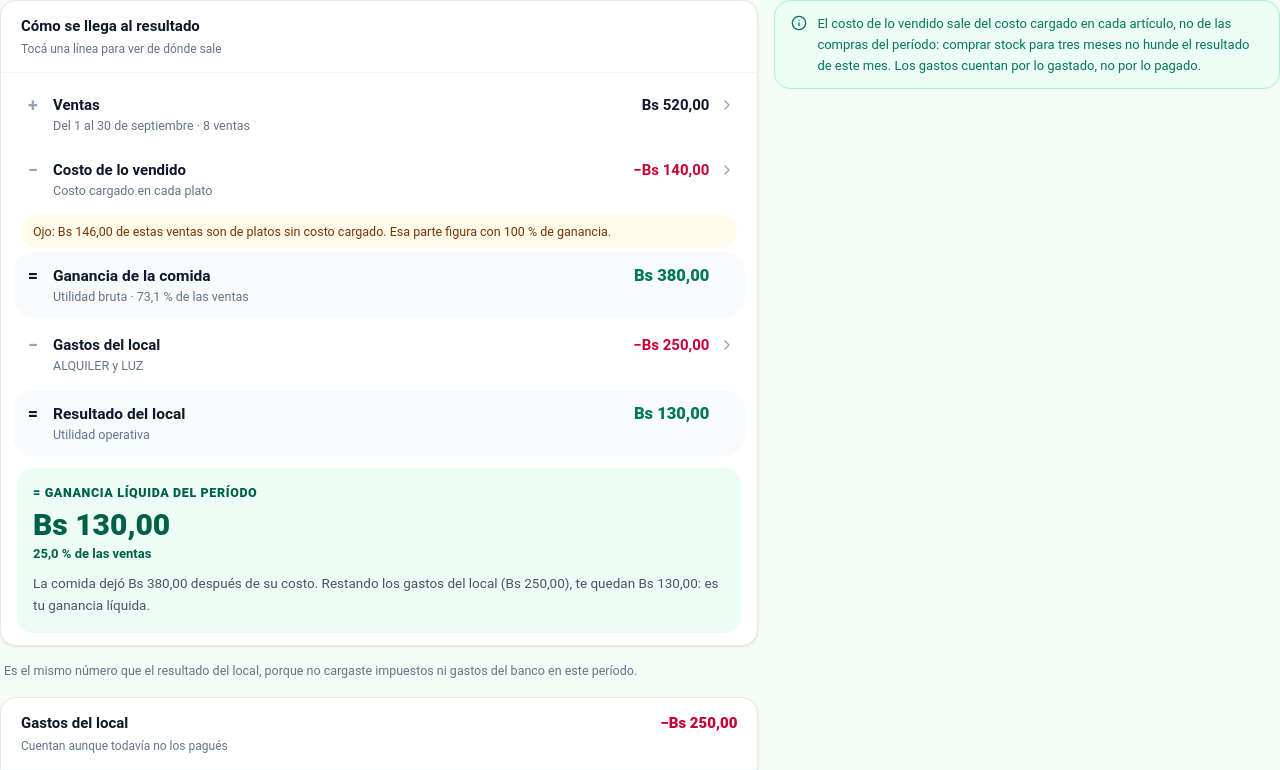
restaurante: platos sin costo e insumos (28-oct) › con un backend anterior, sin la lista, el aviso queda con el texto de siempre
Expected: the text "Sin costo cargado:" is not shown
Click the text "Costo de lo vendido". click: (120,170)
box: [53,161,186,179]
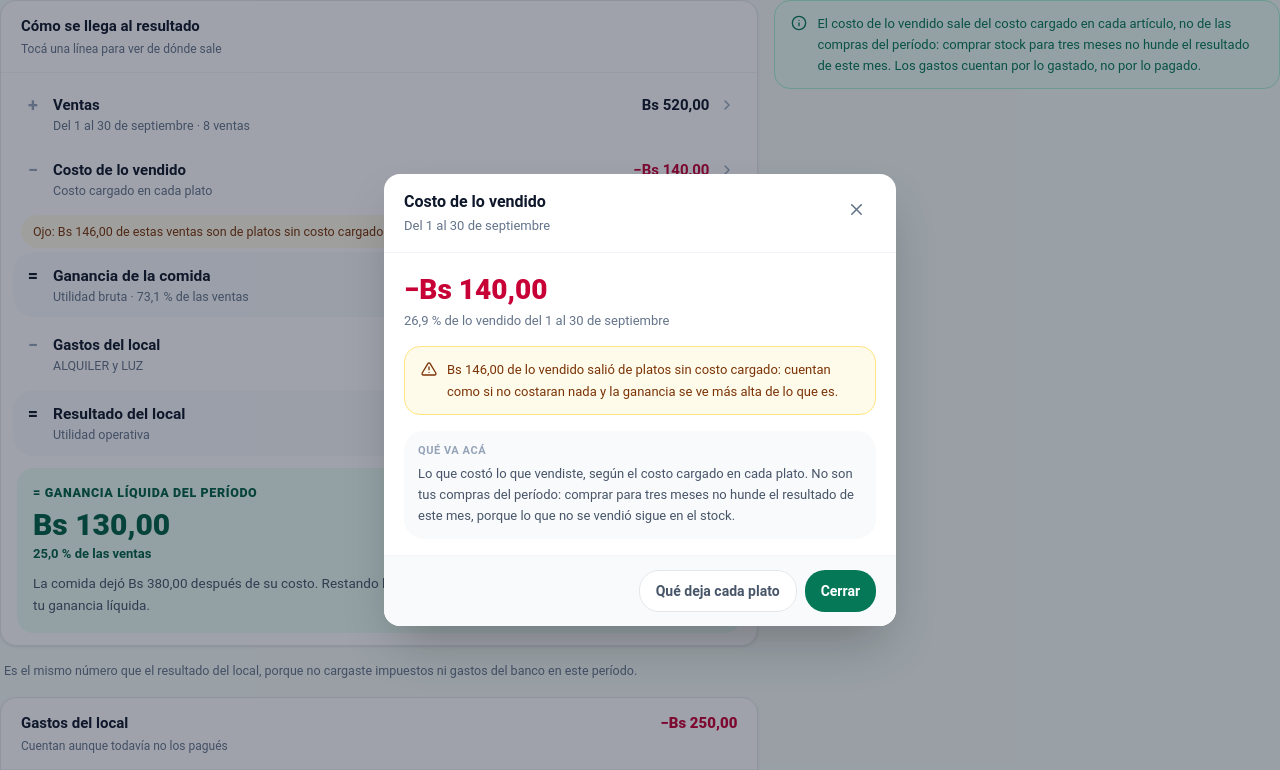
Expected: the text "cuentan como si no costaran nada" is shown, [447,362,838,398]
